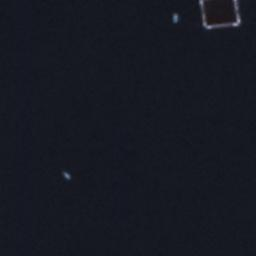square_solid: (194, 1, 244, 33)
